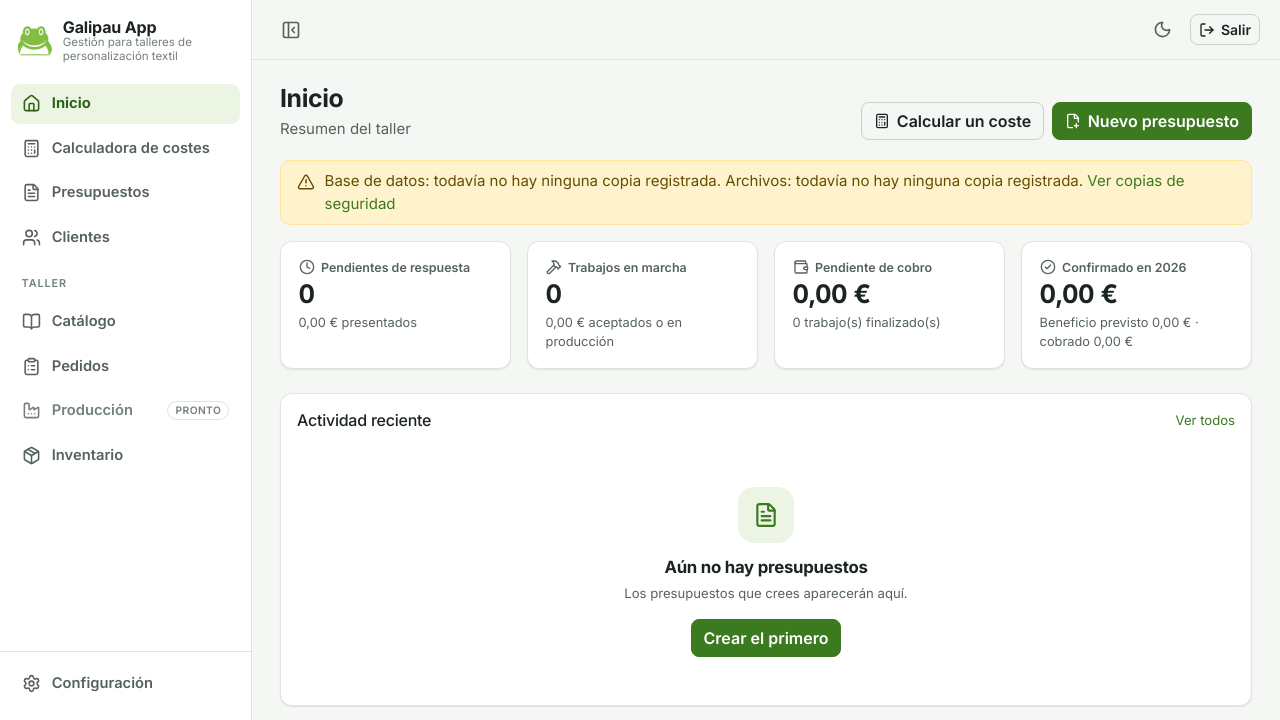
Test case: estructura y navegación › modo claro por defecto; el botón cambia a oscuro y se recuerda
Check: the navigation bar named "Navegación principal" is shown, box [0,80,251,651]
Click the button named "Cambiar a modo oscuro": coordinates (1163, 30) [1144,10,1182,48]
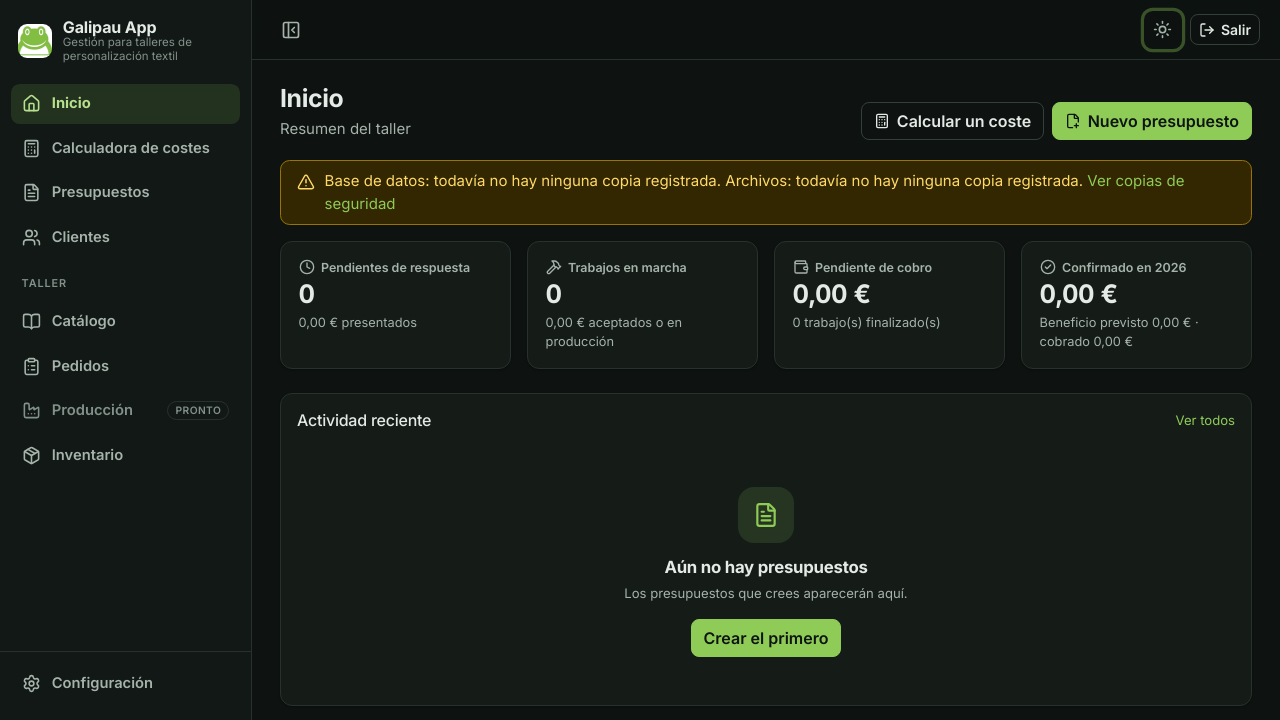
Check: the button named "Cambiar a modo claro" is shown, box [1144,10,1182,48]
